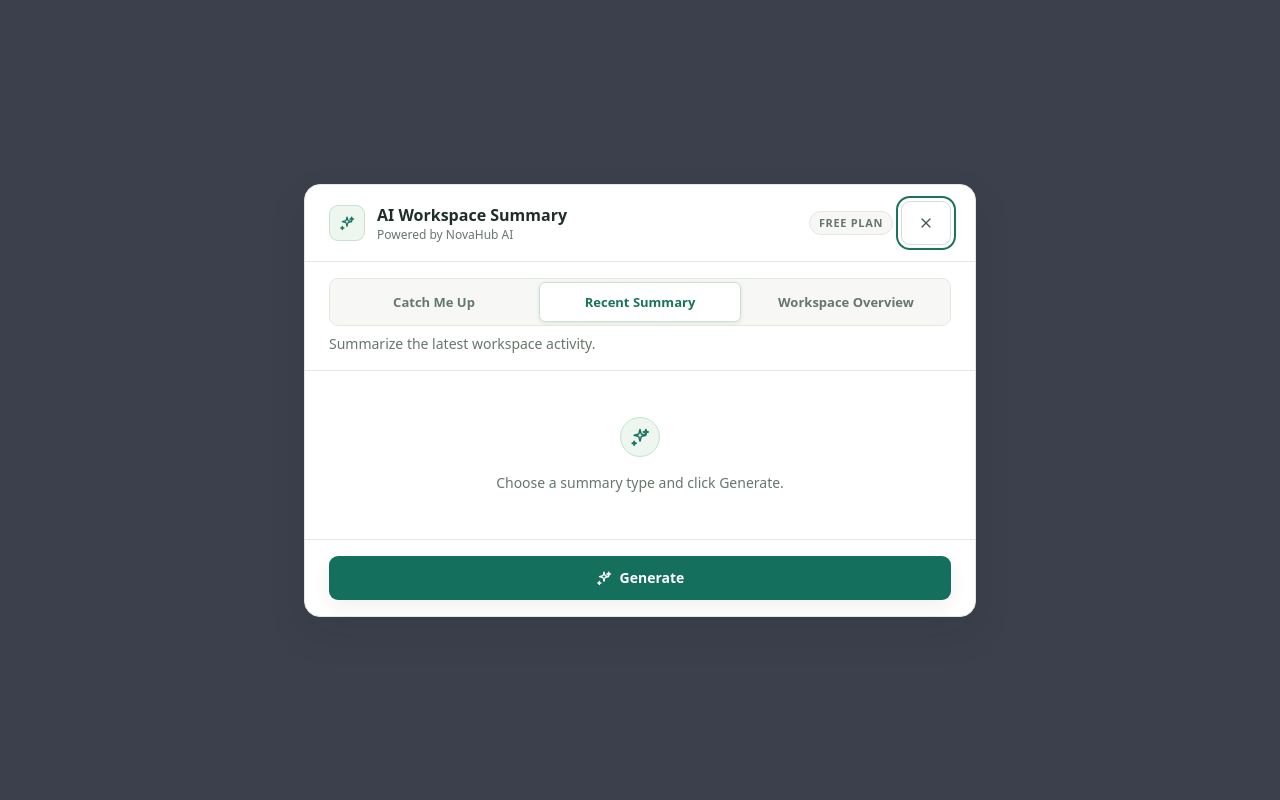
AiSummaryDialog — result display › 8. successful response renders summary text
The width and height of the screenshot is (1280, 800).
Click the button "Generate". click: x=640, y=578
box: [329,556,951,600]
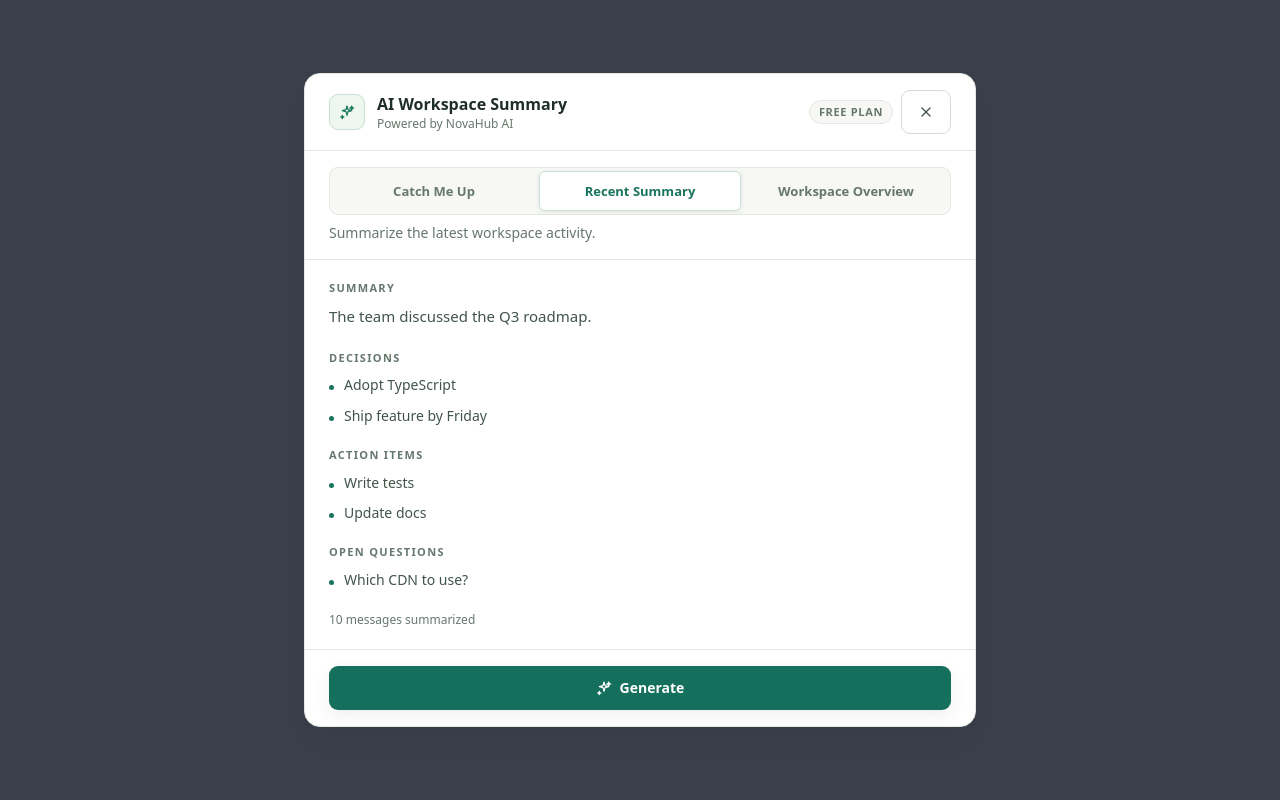
Now the text "The team discussed the Q3 roadmap." is shown, box [329,306,591,326]
